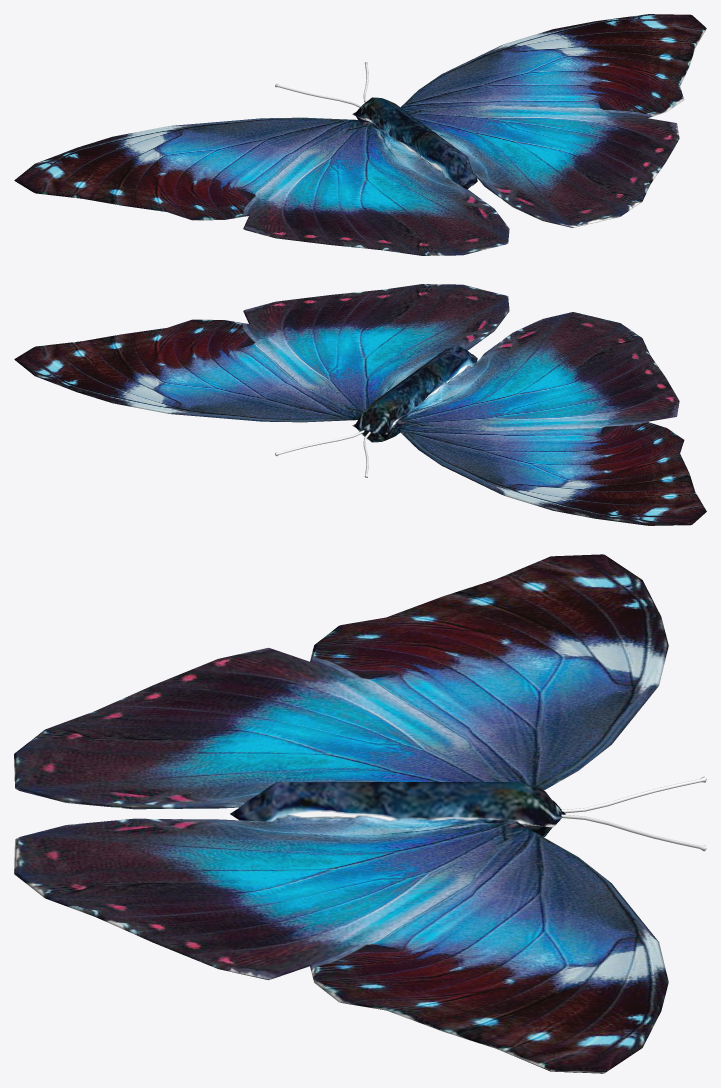
Rendered from Peleides.glb.
3 views of the same model, one above another, from view 1: azimuth 30°, elevation 25°; view 2: azimuth 150°, elevation 25°; view 3: azimuth 270°, elevation 25° (orthographic). The views are drawn at different scales.
Visible parts, largest first — view 1: Mariposa_03.001; view 2: Mariposa_03.001; view 3: Mariposa_03.001.
Boxes of the visible parts, x1=… form: Mariposa_03.001: x1=14, y1=14, x2=706, y2=255; Mariposa_03.001: x1=14, y1=284, x2=706, y2=525; Mariposa_03.001: x1=14, y1=554, x2=706, y2=1073.
Size of the model in its own units: 8 by 0.4622 by 4.52.
Materials: 1 (1 with a texture image).
